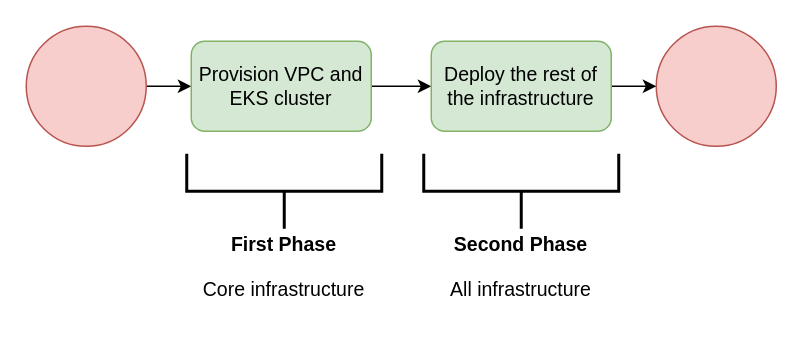
The diagram is 803 pixels wide and 338 high, and some of its shapes have lost their labels. The shapes that lost their labels are listed below. From the top down, each one's box as (x1, y1, x2, y2) in pixels, then its label:
(25, 25, 146, 146): START
(655, 25, 776, 146): END
